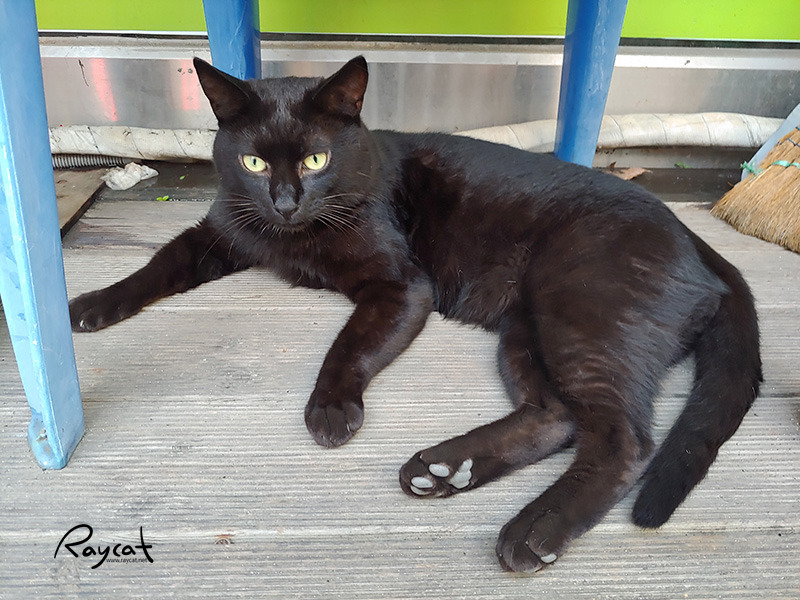cat: (45, 51, 780, 587)
cat-face: (186, 42, 398, 256)
